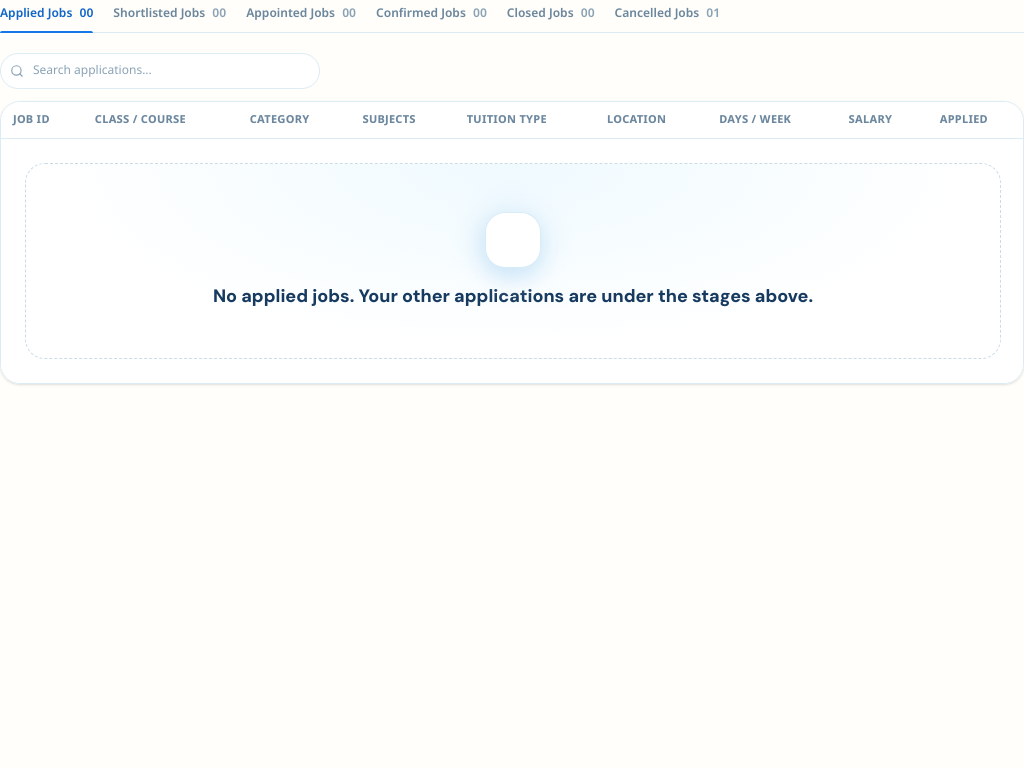
Scenario: Interactive Timeline Tracker Modal › displays Cancelled step and full trajectory when an appointed application is cancelled
Go to Cancelled Jobs tab
Step 1. Click the tab "Cancelled Jobs 01" → (667,16), box [615,0,720,32]
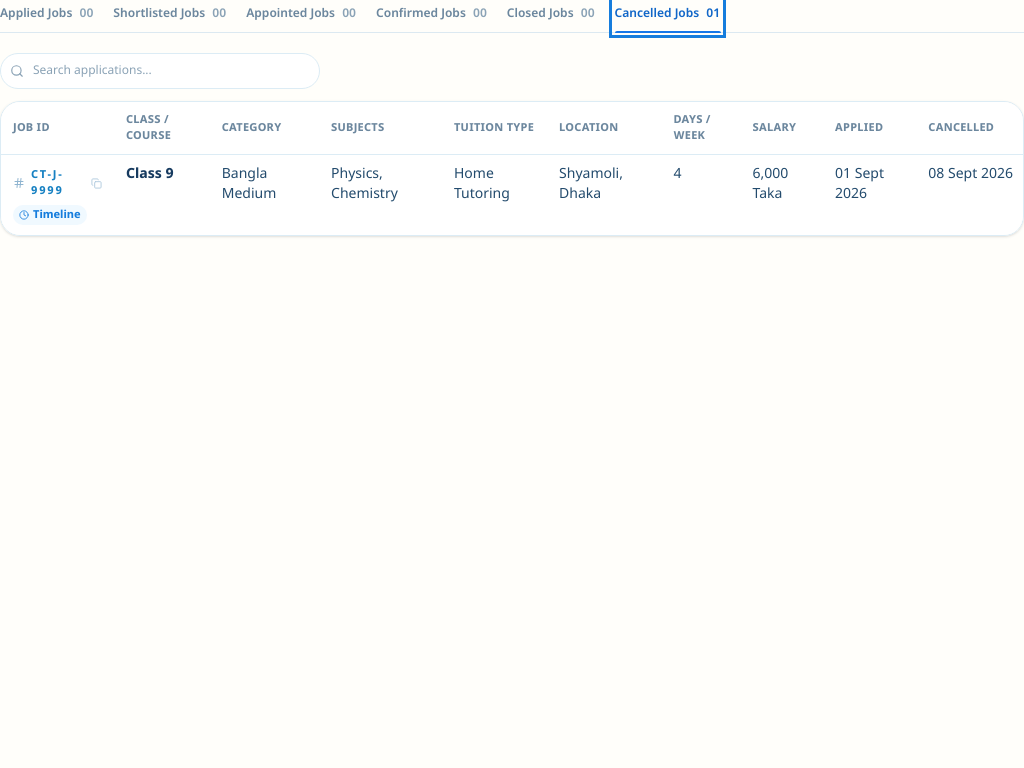
Open Timeline modal
Step 2. Click the button with aria-label "View timeline for CT-J-9999" → (50,215), box [13,205,87,225]
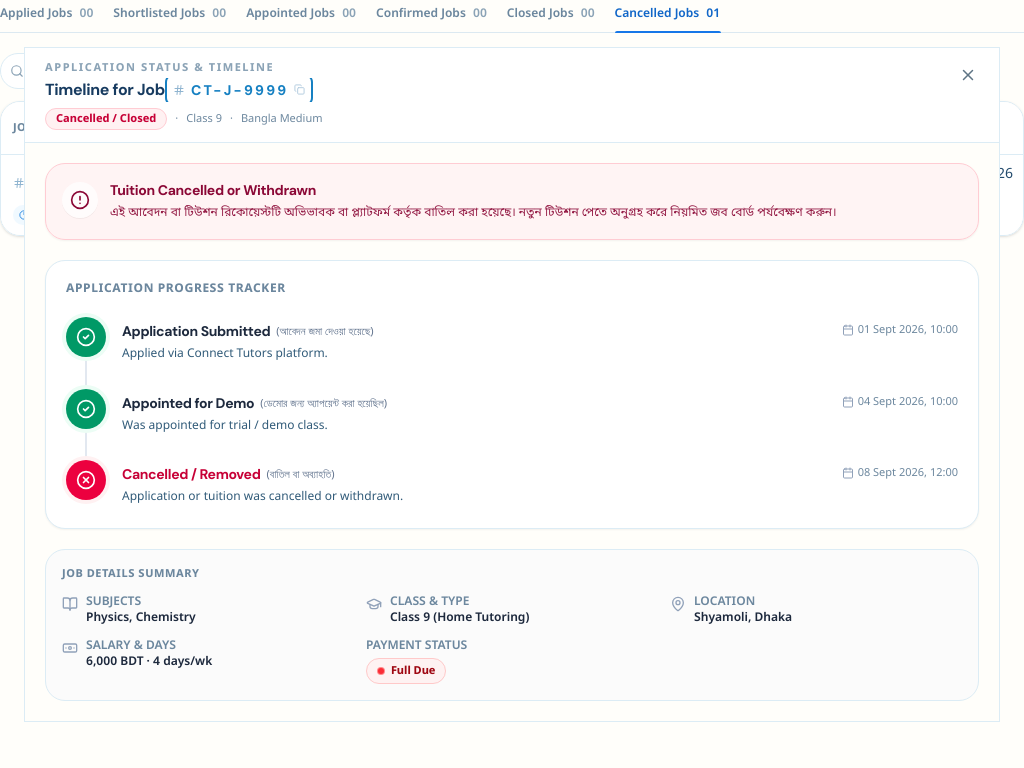
Check: the dialog with test id "tutor-application-timeline-modal" is shown
Check: the heading "Tuition Cancelled or Withdrawn" is shown, box [110,180,316,198]
Check: the text "Appointed for Demo" is shown, box [122,392,254,412]
